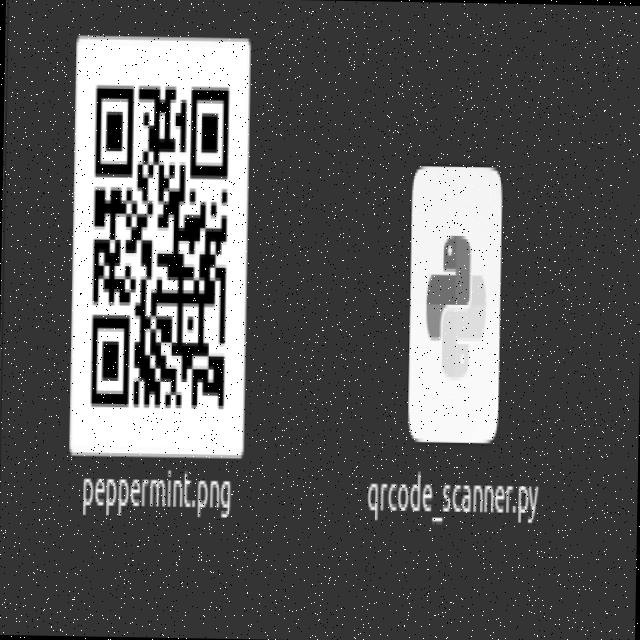QR-codes: (88, 79, 232, 413)
